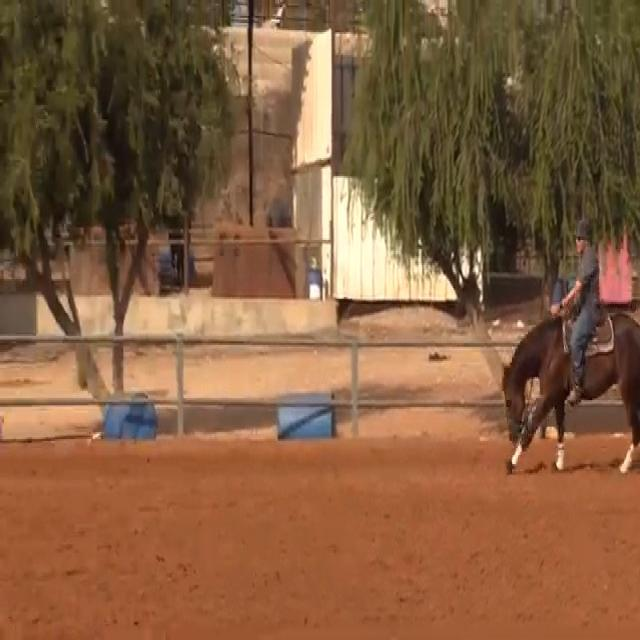horse: (499, 304, 638, 476)
